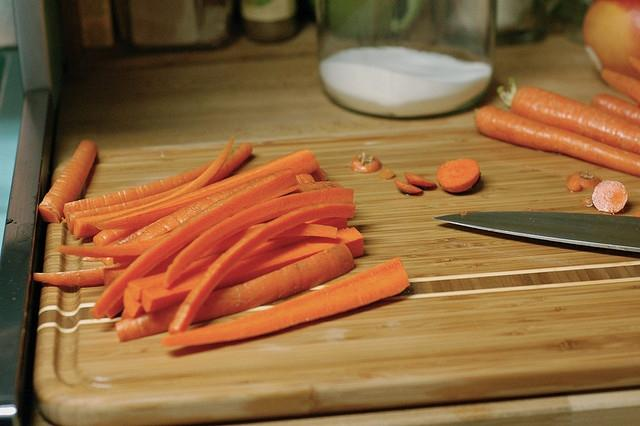carrot: (93, 170, 300, 319), (167, 200, 355, 334), (114, 242, 355, 343), (160, 257, 411, 348), (141, 227, 364, 314), (162, 188, 354, 288), (128, 217, 348, 300), (94, 149, 319, 230), (61, 142, 252, 235), (73, 134, 236, 238), (104, 174, 270, 247), (476, 107, 639, 178), (496, 74, 639, 154), (145, 222, 338, 278), (67, 179, 194, 234), (38, 139, 98, 223), (56, 232, 170, 257), (33, 259, 135, 286), (436, 158, 480, 193), (592, 93, 640, 125), (600, 68, 640, 104), (592, 180, 628, 213), (92, 228, 142, 247), (567, 171, 601, 192), (350, 152, 382, 173), (124, 288, 142, 319), (404, 172, 435, 190), (394, 178, 424, 194), (629, 56, 640, 74), (378, 168, 396, 179)
onion: (582, 1, 640, 81)
